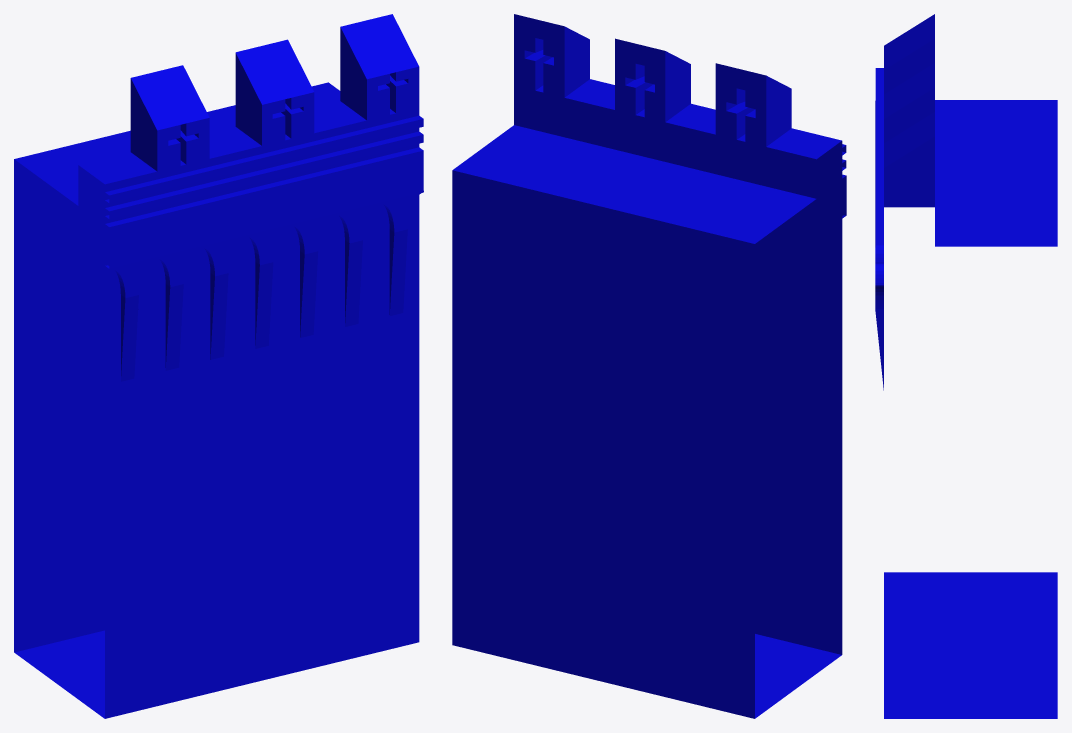
Rendered from basicwall.fbx.
The picture shows the model from 3 angles, left to right: view 1: azimuth 30°, elevation 25°; view 2: azimuth 150°, elevation 25°; view 3: azimuth 270°, elevation 25°; orthographic projection. The views are drawn at different scales.
Parts seen in each view (by area): view 1: castle:polySurface406; view 2: castle:polySurface406; view 3: castle:polySurface406.
Part boxes in pixels (x1,y1,x2,y2): castle:polySurface406: (14,14,423,718); castle:polySurface406: (452,14,846,718); castle:polySurface406: (875,14,1057,718).
Size of the model in its own units: 1000 by 1851 by 525.
